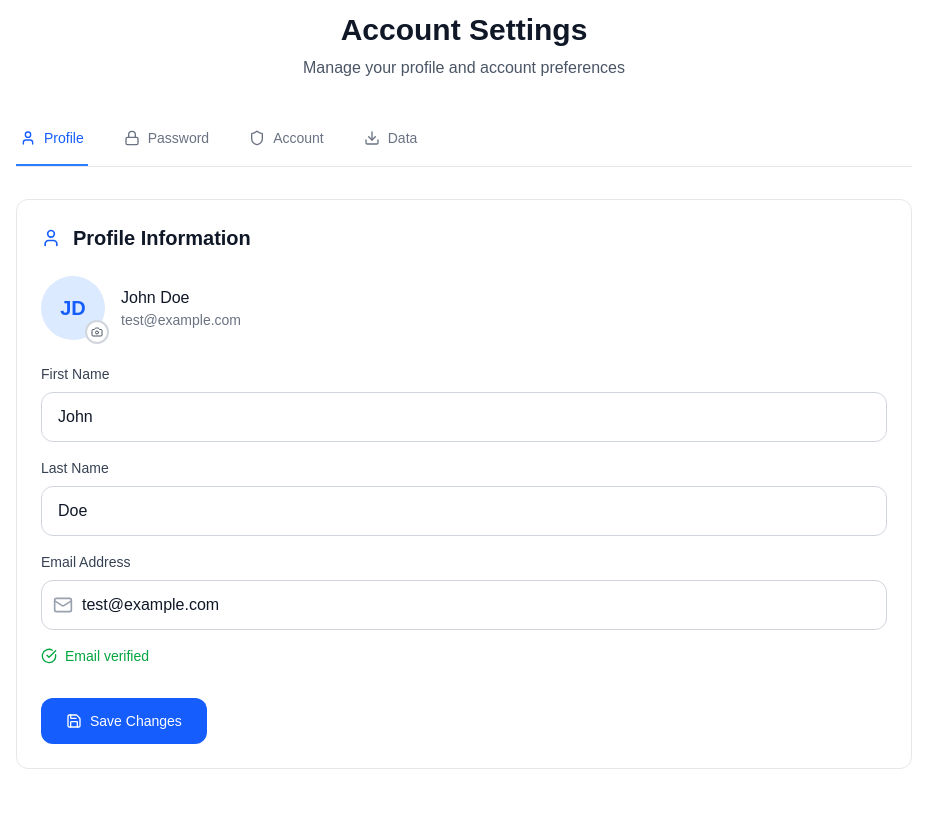
it: ProfileManagement › Password Tab › renders password form fields
Step 1. Click the button "Password" → [166, 139], box [120,112,213,166]
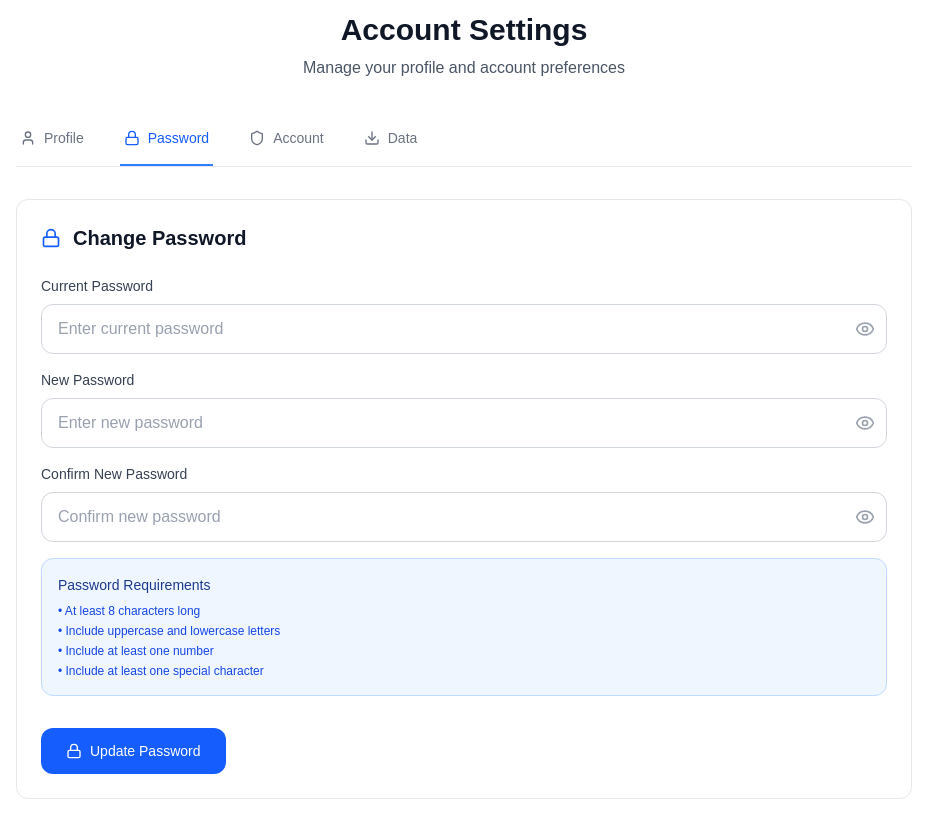
expect the password field labelled "Current Password" is shown: met, box [41,304,887,354]
expect the password field labelled "New Password" is shown: met, box [41,398,887,448]
expect the password field labelled "Confirm New Password" is shown: met, box [41,492,887,542]
